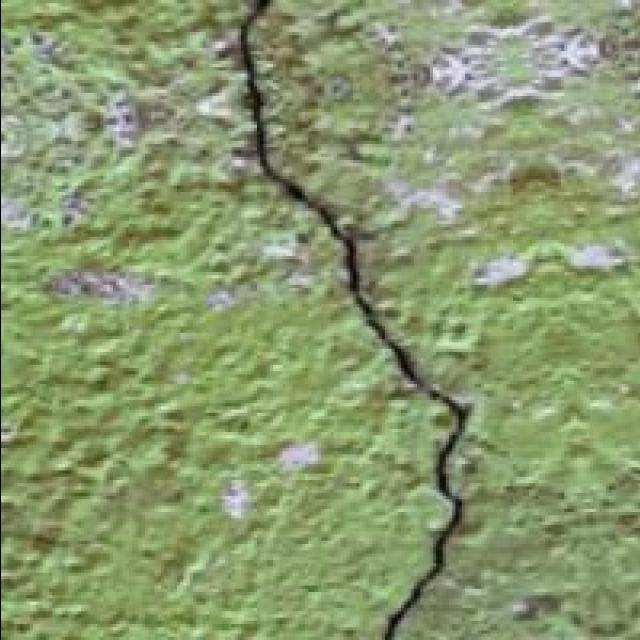SurfaceCrack: (214, 0, 490, 640)
